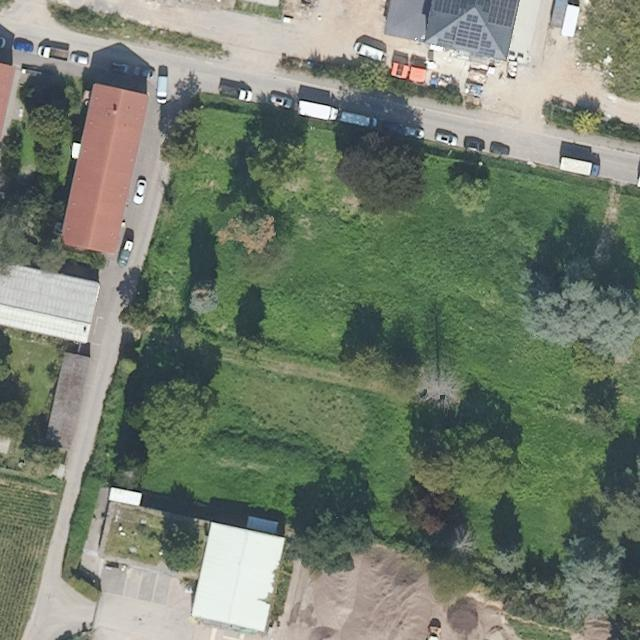PV: (424, 8, 505, 60), (432, 1, 519, 31)
